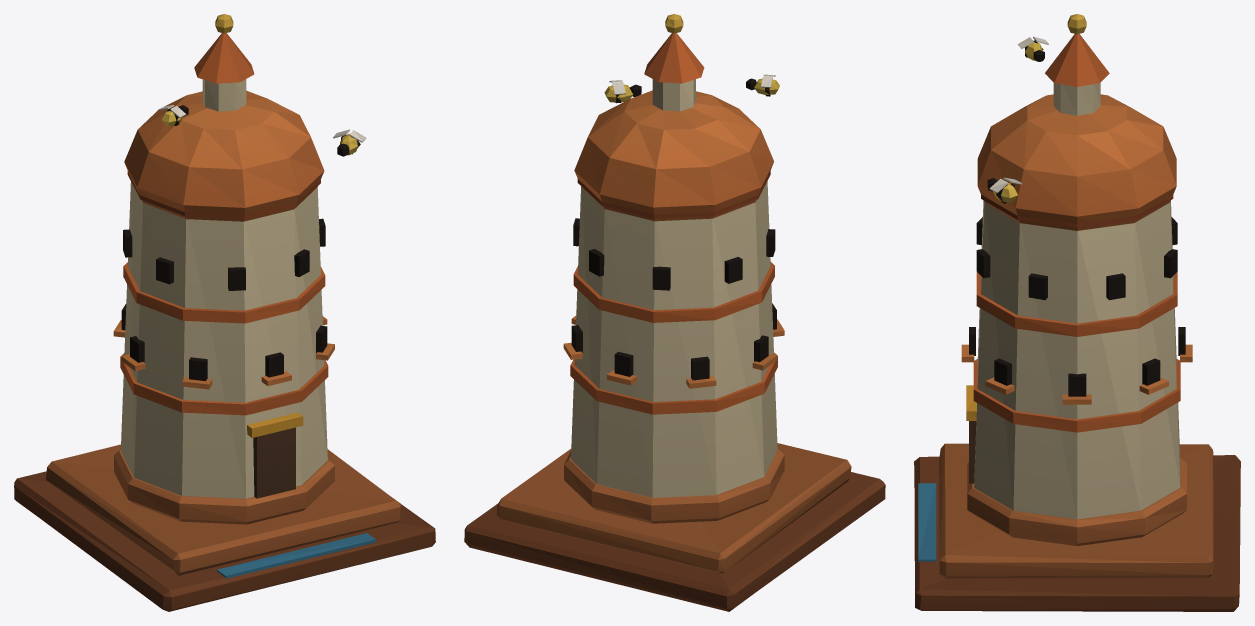
File: apiary.glb
The picture shows the model from 3 angles, left to right: view 1: azimuth 30°, elevation 25°; view 2: azimuth 150°, elevation 25°; view 3: azimuth 270°, elevation 25°; orthographic projection. The views are drawn at different scales.
Parts seen in each view (by area): view 1: apiary; view 2: apiary; view 3: apiary.
Part boxes in pixels (<box>): apiary: <box>14,14,435,611</box>; apiary: <box>464,14,885,611</box>; apiary: <box>914,14,1240,611</box>.
Size of the model in its own units: 0.9064 by 1.62 by 0.9047.
